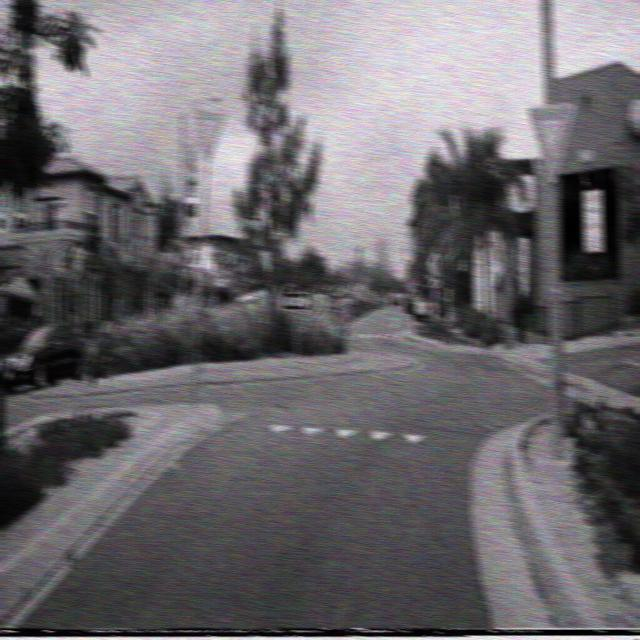pedestrianCrossing: (426, 247, 446, 280)
yield: (526, 102, 576, 185), (194, 106, 228, 164)
